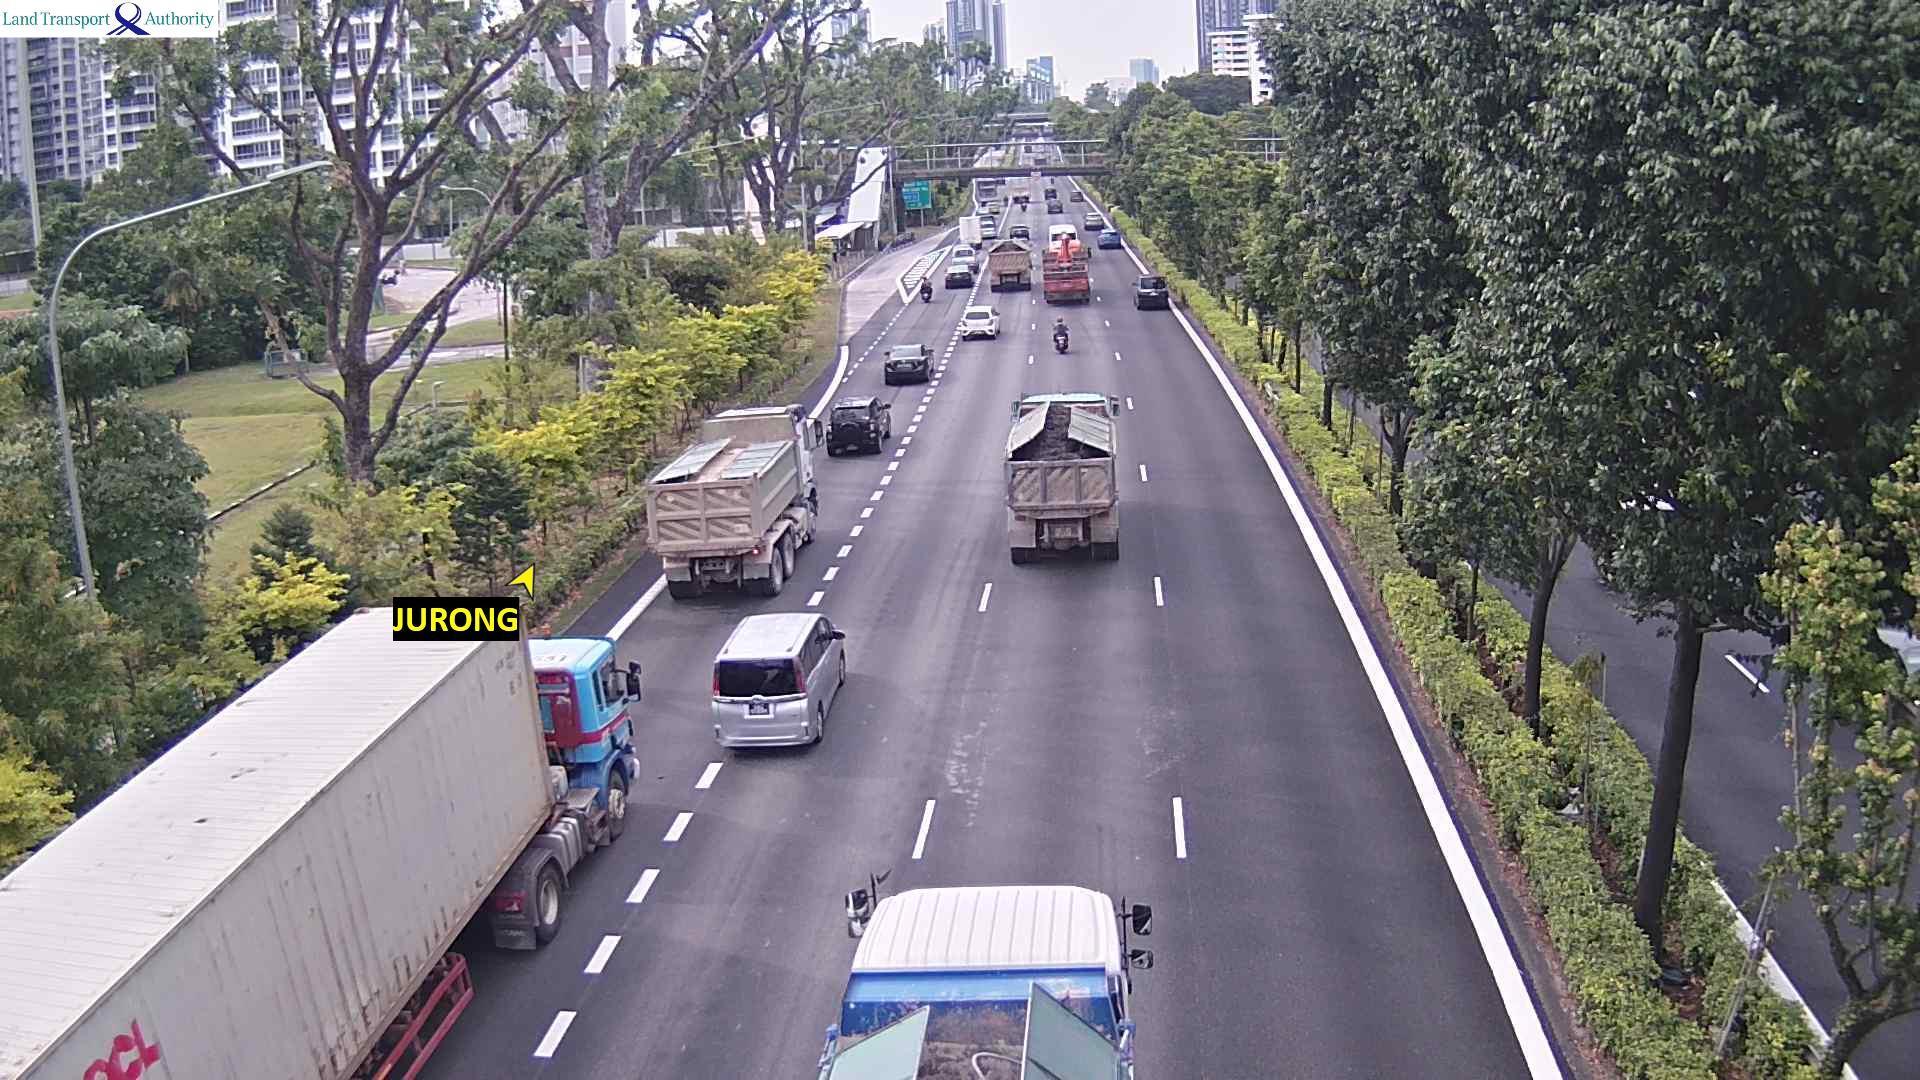bus: (975, 179, 1004, 203)
cars: (709, 611, 847, 752), (825, 394, 891, 455), (1040, 258, 1091, 303), (882, 342, 934, 384), (956, 305, 1001, 340), (1131, 273, 1168, 309), (1047, 223, 1081, 258), (945, 261, 973, 287), (952, 243, 978, 268), (976, 212, 997, 237), (1097, 225, 1120, 248), (1083, 210, 1104, 229), (1007, 223, 1030, 241), (981, 196, 1005, 214), (1010, 190, 1030, 208), (1044, 196, 1062, 212), (1042, 187, 1060, 199), (1069, 189, 1083, 200)
motorcycle: (918, 276, 936, 305), (1052, 323, 1069, 353), (1018, 200, 1031, 214), (1048, 177, 1056, 183)
trucks: (0, 600, 642, 1080), (815, 877, 1149, 1077), (642, 404, 822, 597), (1001, 390, 1120, 564), (986, 237, 1033, 291)
